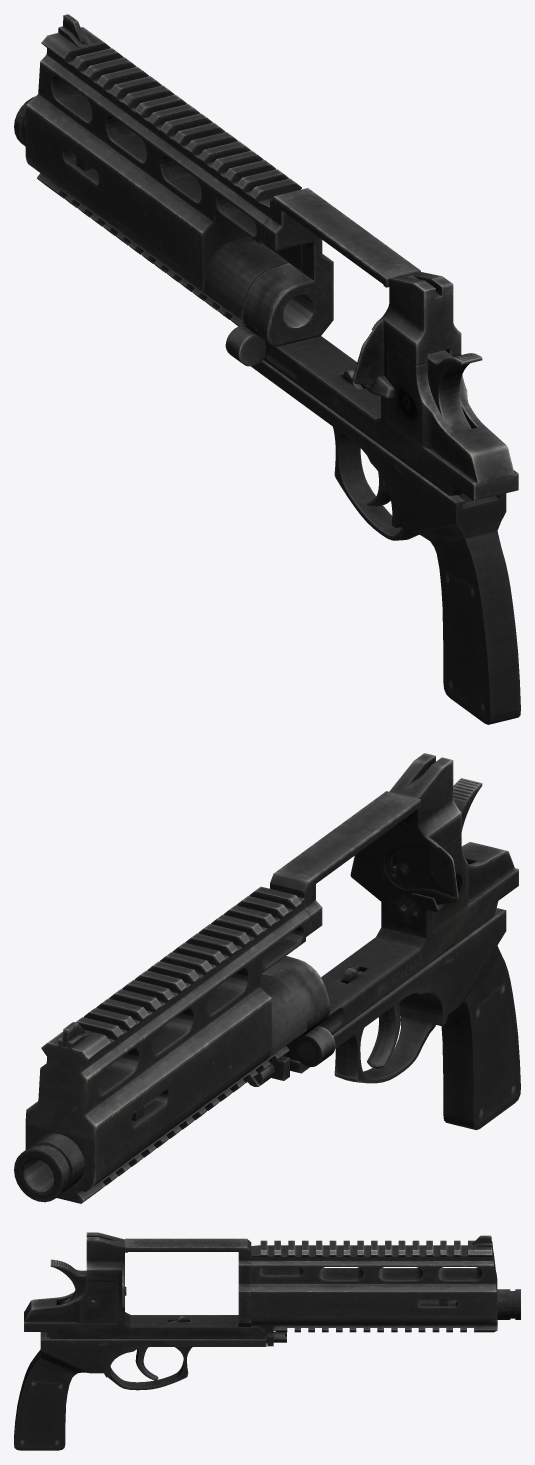
3 renders of one model, top to bottom at view 1: azimuth 30°, elevation 25°; view 2: azimuth 150°, elevation 25°; view 3: azimuth 270°, elevation 25°, orthographic. The views are drawn at different scales.
Visible parts, largest first — view 1: TW_633ec7c2a6918cb895019c6c_PZ_Import; view 2: TW_633ec7c2a6918cb895019c6c_PZ_Import; view 3: TW_633ec7c2a6918cb895019c6c_PZ_Import.
Boxes of the visible parts, x1,y1,x2,y2 form: TW_633ec7c2a6918cb895019c6c_PZ_Import: (14,14,520,724); TW_633ec7c2a6918cb895019c6c_PZ_Import: (14,753,520,1203); TW_633ec7c2a6918cb895019c6c_PZ_Import: (14,1232,520,1450).
Size of the model in its own units: 0.0277 by 0.2122 by 0.0971.
1 material, 1 textured.
